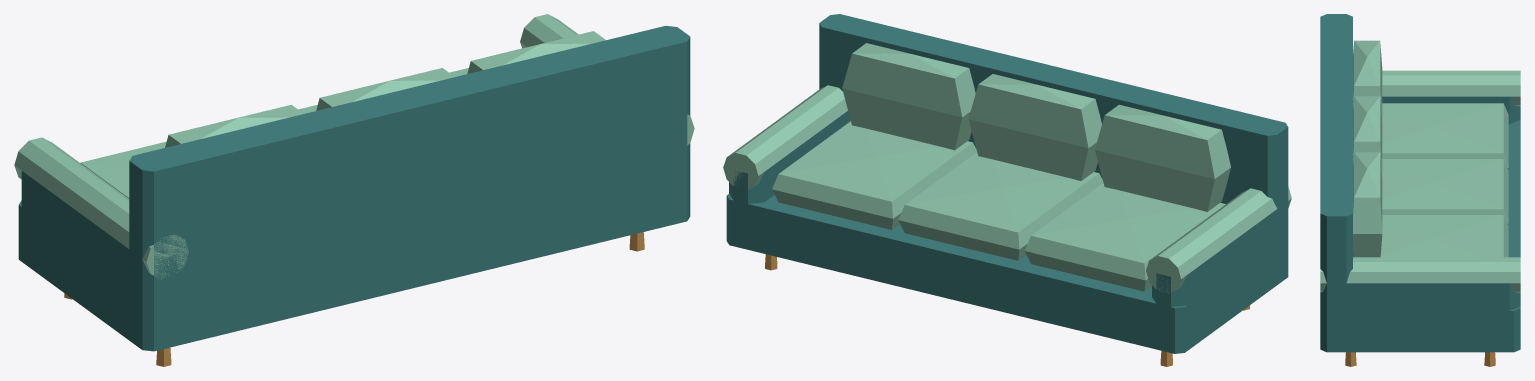
File: SM_LPI_Seat_Sofa_02.fbx
3 views of the same model, side by side, from view 1: azimuth 30°, elevation 25°; view 2: azimuth 150°, elevation 25°; view 3: azimuth 270°, elevation 25° (orthographic). The views are drawn at different scales.
Visible parts, largest first — view 1: SM_LPI_Seat_Sofa_02; view 2: SM_LPI_Seat_Sofa_02; view 3: SM_LPI_Seat_Sofa_02.
Part boxes in pixels (x1,y1,x2,y2): SM_LPI_Seat_Sofa_02: [14, 14, 694, 366]; SM_LPI_Seat_Sofa_02: [723, 14, 1291, 366]; SM_LPI_Seat_Sofa_02: [1320, 14, 1520, 366].
Bounding box in the file's own units: 2.2 × 0.8317 × 0.92.
